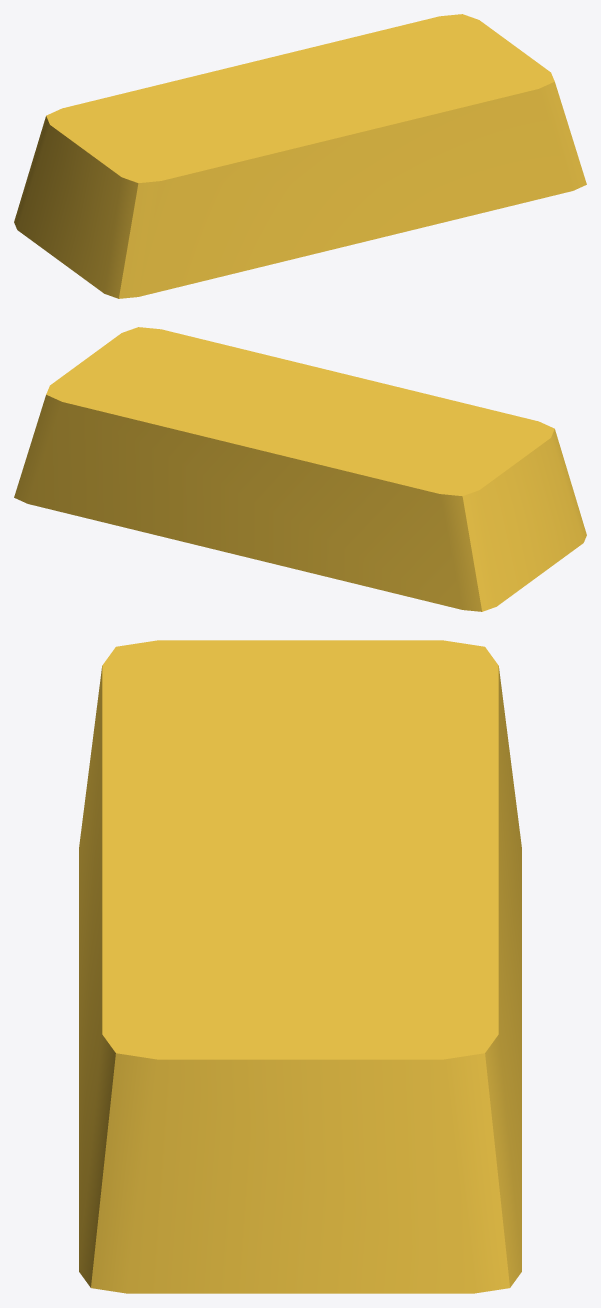
The model's file is Gold.fbx.
3 views of the same model, one above another, from view 1: azimuth 30°, elevation 25°; view 2: azimuth 150°, elevation 25°; view 3: azimuth 270°, elevation 25° (orthographic). The views are drawn at different scales.
Parts seen in each view (by area): view 1: Gold; view 2: Gold; view 3: Gold.
Boxes of the visible parts, x1,y1,x2,y2 form: Gold: (14,14,586,298); Gold: (14,327,586,611); Gold: (79,640,521,1293).
Size of the model in its own units: 50 by 10.45 by 20.
